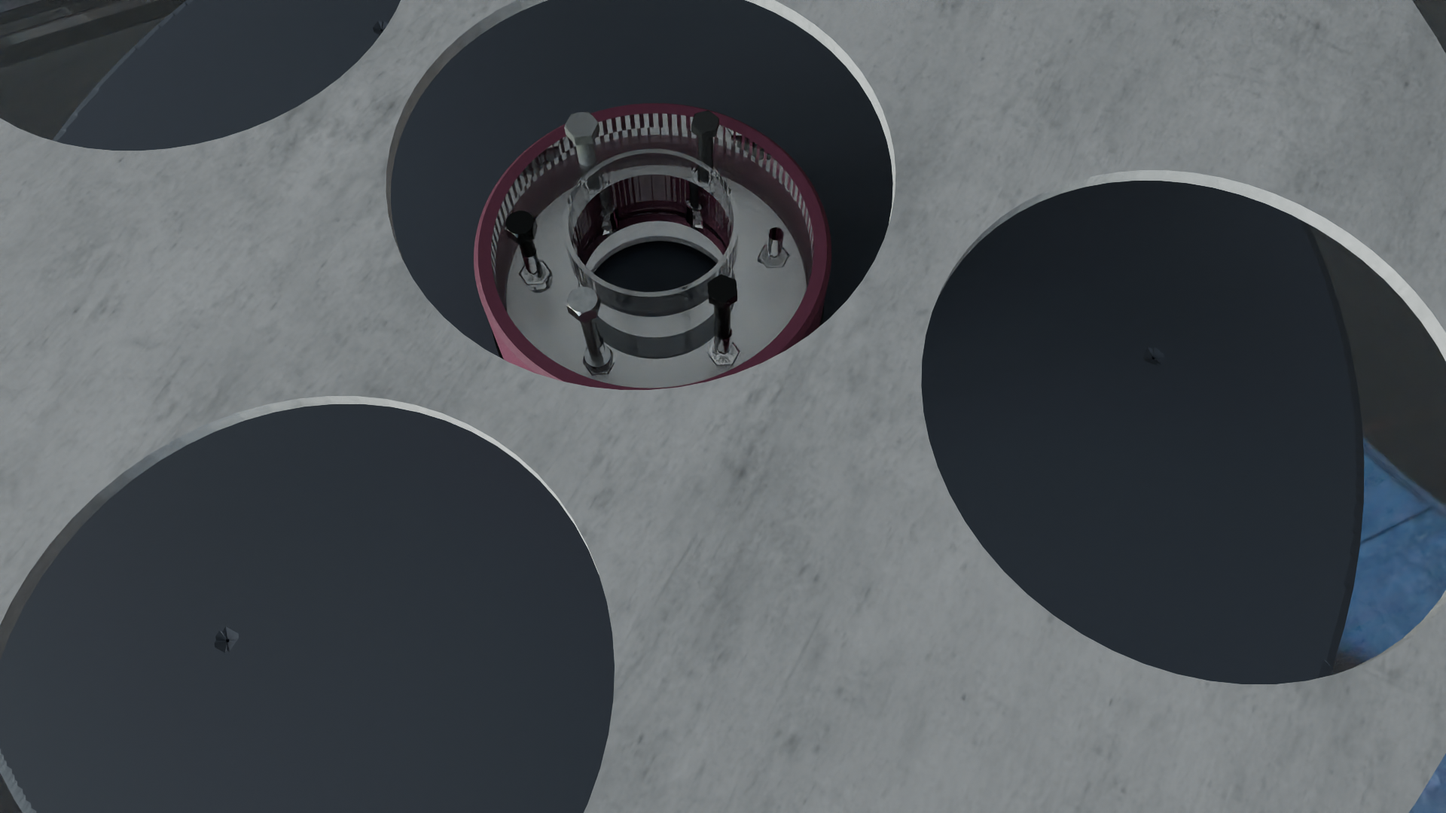bolt: (566, 286, 599, 316), (564, 112, 599, 138), (708, 275, 737, 303), (505, 211, 535, 238), (691, 111, 719, 133)
